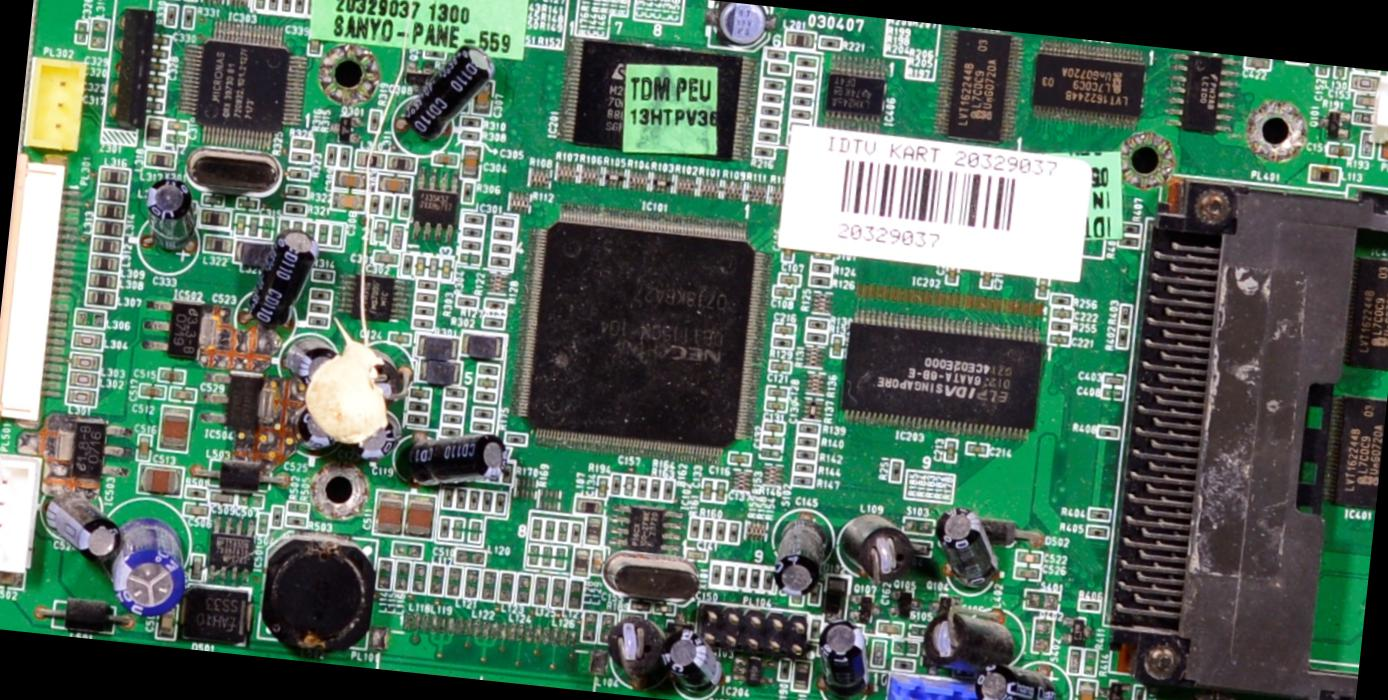Capacitor Jumper: (402, 494, 431, 536), (160, 410, 188, 447), (378, 491, 402, 534), (144, 466, 178, 494), (458, 144, 475, 178), (328, 194, 364, 209), (874, 618, 903, 636), (1073, 679, 1098, 699), (1013, 566, 1044, 582), (337, 172, 366, 188), (157, 366, 182, 384), (138, 383, 167, 398), (168, 386, 197, 400), (944, 438, 959, 465), (1050, 307, 1077, 321), (182, 506, 208, 520), (139, 434, 152, 461), (475, 88, 489, 113), (1244, 56, 1268, 70), (440, 256, 452, 283), (1050, 332, 1071, 347), (372, 254, 398, 266), (871, 640, 884, 664), (380, 179, 402, 193), (1017, 550, 1042, 562), (210, 492, 235, 504), (1327, 146, 1349, 159), (780, 272, 800, 286), (240, 494, 263, 506), (1101, 386, 1120, 400), (969, 442, 988, 456), (701, 478, 713, 500), (770, 386, 790, 399), (729, 455, 752, 466), (830, 336, 842, 357), (1352, 78, 1373, 90), (1102, 373, 1124, 384), (761, 448, 781, 460), (624, 476, 636, 496), (654, 602, 674, 614), (158, 618, 171, 636), (234, 215, 244, 238), (718, 479, 728, 502), (767, 400, 786, 412), (435, 151, 451, 165), (773, 326, 795, 336), (590, 552, 602, 570), (428, 257, 438, 278), (1316, 64, 1329, 80), (772, 285, 789, 297), (764, 424, 784, 434), (416, 256, 425, 278), (1354, 98, 1376, 107), (784, 248, 796, 264), (153, 47, 172, 57), (0, 572, 11, 589), (392, 332, 410, 342), (762, 438, 782, 447), (596, 476, 604, 497), (632, 600, 646, 612), (768, 360, 786, 369), (148, 98, 162, 109), (168, 119, 183, 129), (154, 35, 170, 44), (78, 24, 87, 40), (688, 550, 706, 558), (150, 72, 164, 82), (153, 58, 166, 68), (150, 86, 164, 94)
Connector: (0, 154, 81, 439), (0, 435, 67, 616), (22, 41, 98, 157)
IC: (543, 225, 746, 447), (565, 39, 739, 159), (844, 319, 1019, 424), (1028, 40, 1136, 120), (202, 44, 284, 132), (1327, 398, 1386, 506), (956, 33, 1013, 132), (828, 64, 895, 122), (1348, 262, 1387, 361), (51, 416, 104, 485), (1180, 52, 1222, 127), (350, 274, 394, 318), (622, 508, 665, 552), (416, 192, 458, 232), (212, 531, 250, 569), (172, 300, 194, 352), (746, 659, 760, 685)
Resistor Jumper: (185, 484, 206, 499), (182, 6, 196, 28), (710, 562, 724, 584), (892, 457, 903, 484), (764, 76, 785, 90), (394, 199, 408, 220), (288, 501, 310, 514), (818, 37, 838, 51), (468, 487, 480, 510), (1083, 650, 1094, 675), (366, 109, 379, 130), (458, 252, 480, 264), (1114, 328, 1126, 350), (663, 480, 674, 504), (464, 181, 475, 204), (776, 659, 787, 682), (463, 115, 482, 128), (1078, 600, 1100, 611), (798, 448, 818, 460), (1088, 507, 1108, 519), (438, 518, 450, 538), (474, 410, 492, 423), (764, 569, 774, 592), (290, 136, 309, 148), (366, 194, 377, 214), (380, 196, 390, 218), (415, 304, 435, 315), (484, 492, 494, 514), (738, 565, 748, 587), (768, 62, 788, 73), (486, 298, 504, 310), (608, 474, 620, 492), (1132, 681, 1144, 699), (1049, 294, 1070, 304), (442, 488, 453, 507), (795, 476, 818, 485), (811, 276, 828, 288), (1355, 110, 1372, 122), (1098, 426, 1118, 436), (726, 522, 736, 542), (163, 4, 172, 26), (763, 90, 781, 101), (464, 237, 482, 248), (472, 420, 490, 431), (288, 199, 304, 211), (310, 313, 326, 325), (456, 486, 464, 510), (290, 514, 306, 526), (410, 400, 429, 410), (272, 505, 282, 524), (894, 658, 913, 668), (1361, 136, 1369, 159), (288, 168, 306, 178), (288, 184, 306, 194), (1120, 306, 1130, 324), (799, 437, 817, 447), (410, 418, 428, 428), (637, 477, 646, 497), (258, 512, 268, 530), (1071, 650, 1080, 670), (761, 131, 777, 142), (324, 149, 334, 166), (309, 302, 326, 312), (768, 50, 785, 60), (292, 0, 305, 13), (446, 424, 460, 436), (280, 0, 292, 14), (493, 216, 508, 227), (497, 255, 512, 266), (497, 496, 506, 514), (772, 338, 788, 348), (410, 388, 426, 398), (752, 570, 762, 586), (810, 585, 820, 601), (268, 0, 279, 14), (688, 517, 696, 536), (763, 116, 778, 126), (478, 394, 493, 404), (458, 130, 476, 138), (808, 317, 824, 326), (416, 318, 434, 326), (724, 564, 732, 582), (481, 364, 495, 374), (801, 56, 815, 66), (794, 72, 811, 80), (756, 150, 773, 158), (495, 244, 512, 252), (404, 255, 412, 272), (1088, 528, 1105, 536), (466, 215, 482, 223), (314, 272, 330, 280), (418, 286, 434, 294), (808, 332, 824, 340), (480, 318, 496, 326), (650, 480, 658, 496), (795, 94, 809, 103), (813, 263, 827, 272), (508, 433, 522, 442), (312, 288, 327, 296), (480, 378, 495, 386), (802, 424, 817, 432), (715, 521, 721, 541), (293, 154, 309, 161), (458, 296, 472, 304), (444, 412, 458, 420), (256, 0, 267, 10), (794, 108, 806, 117), (464, 229, 479, 236), (796, 463, 811, 470), (764, 106, 778, 113), (500, 231, 512, 239), (797, 85, 810, 92), (341, 150, 347, 165), (451, 391, 462, 399), (450, 404, 460, 412), (704, 522, 709, 538), (422, 297, 432, 304)
